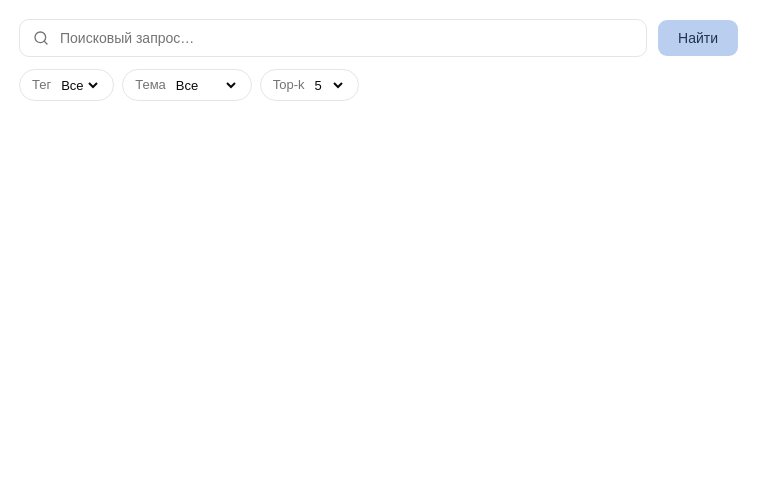
Test case: результаты группируются по документу: имя файла один раз, бейджи с числом фрагментов
The image size is (759, 487).
Step 1. Type "data vault" into the field with placeholder "Поисковый запрос…" → point(333, 38), box x1=19 y1=19 x2=647 y2=57
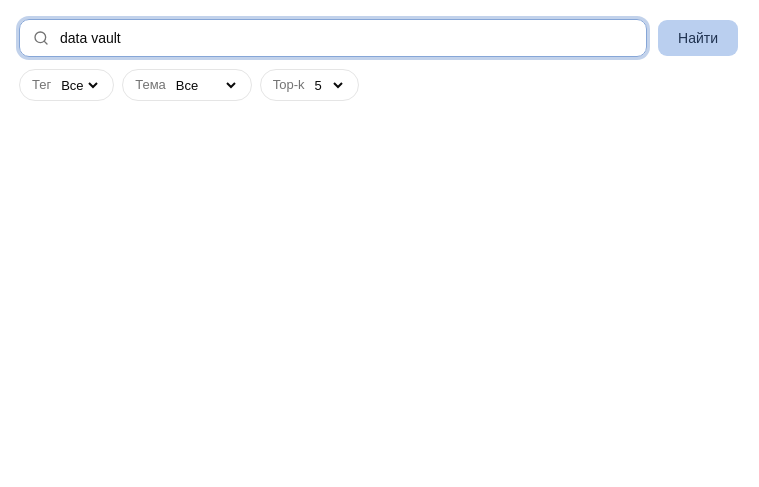
Step 2. Click the button "Найти" → point(698, 38), box x1=657 y1=19 x2=739 y2=57
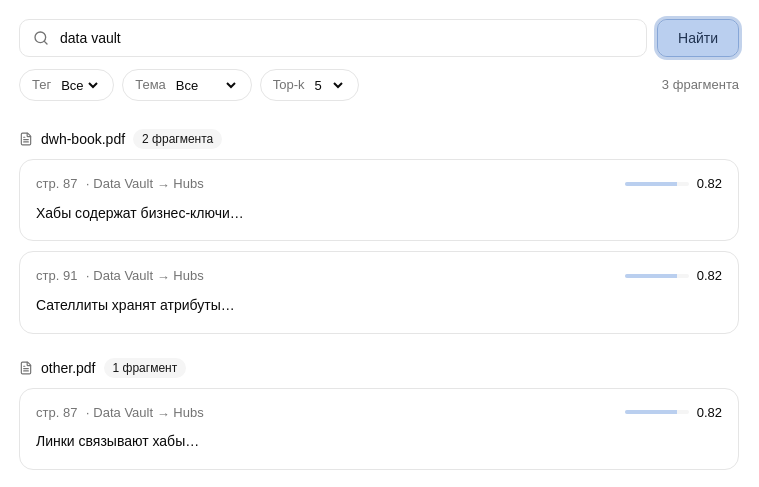
Check: the text "Хабы содержат бизнес-ключи…" is shown, box x1=36 y1=204 x2=244 y2=220
Check: the text "dwh-book.pdf 2 фрагмента" is shown once, box x1=19 y1=129 x2=222 y2=149
Check: the text "2 фрагмента" is shown, box x1=133 y1=129 x2=222 y2=149
